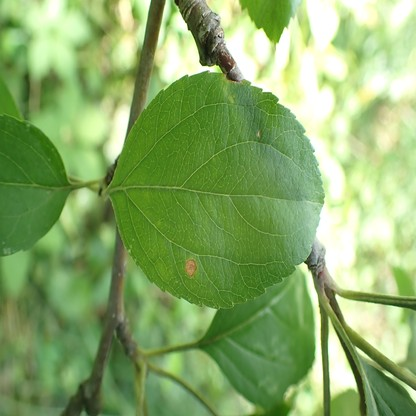frogeye_leaf_spot: (185, 259, 197, 277)
scab: (220, 75, 234, 104)
